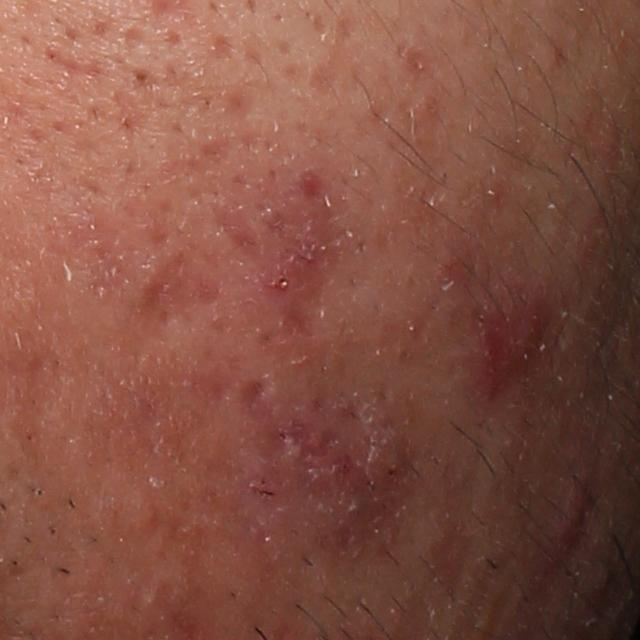atrophic_scar: (307, 14, 363, 102), (145, 259, 203, 326), (209, 198, 270, 258), (44, 43, 112, 83), (229, 372, 264, 411)
nodule: (270, 374, 410, 559)
papule: (479, 287, 544, 401), (556, 462, 597, 544)
